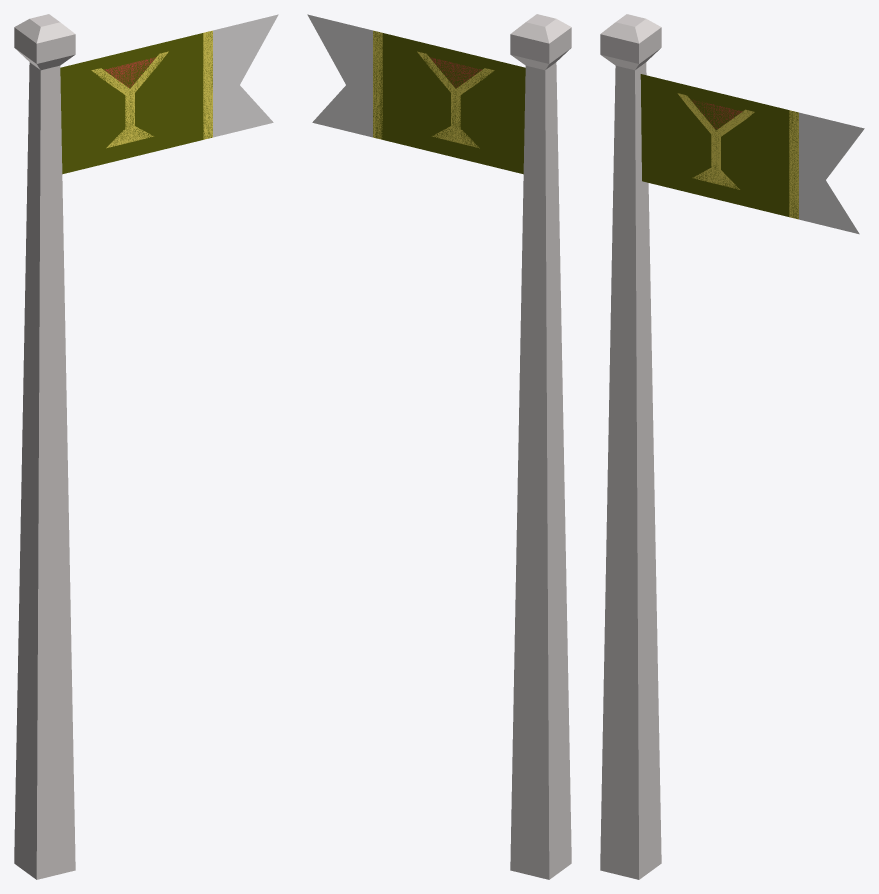
The model's file is obj_flagpole_3_0.obj.
3 renders of one model, left to right at view 1: azimuth 30°, elevation 25°; view 2: azimuth 150°, elevation 25°; view 3: azimuth 330°, elevation 25°, orthographic.
Bounding box in the file's own units: 0.8125 × 2.59 × 0.125.
